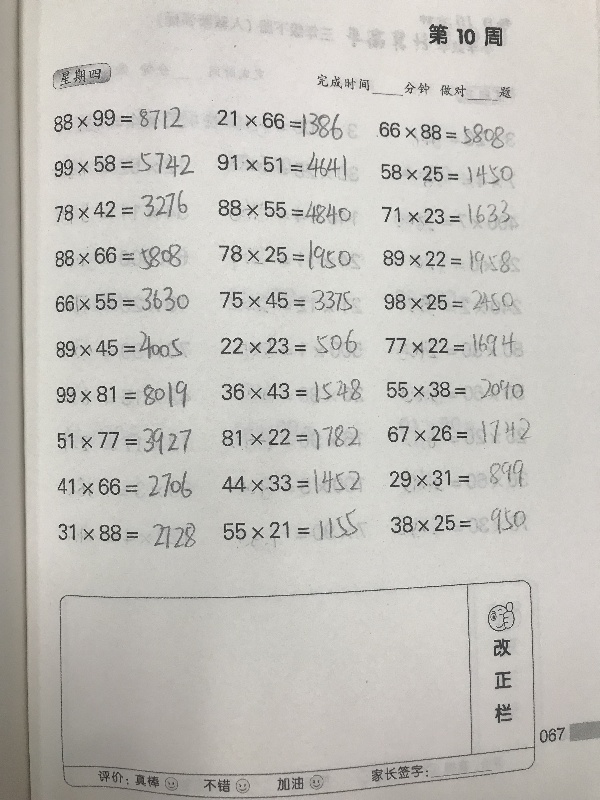equation: (219, 511, 371, 549), (384, 417, 534, 455), (216, 237, 365, 274), (206, 103, 347, 139), (54, 424, 195, 459), (53, 377, 194, 412), (54, 518, 198, 552), (387, 507, 530, 541), (383, 373, 526, 407), (217, 422, 364, 455), (53, 328, 191, 363), (54, 468, 196, 502), (51, 149, 198, 181), (379, 199, 513, 234), (217, 376, 365, 407), (52, 193, 191, 226), (381, 330, 524, 362), (218, 467, 365, 498), (380, 287, 517, 320), (51, 283, 192, 315), (216, 328, 360, 359), (213, 146, 351, 178), (51, 241, 184, 274), (373, 117, 509, 149), (214, 195, 354, 226), (49, 104, 186, 135), (385, 460, 526, 490), (379, 246, 514, 276), (216, 286, 355, 315), (377, 160, 516, 188)
